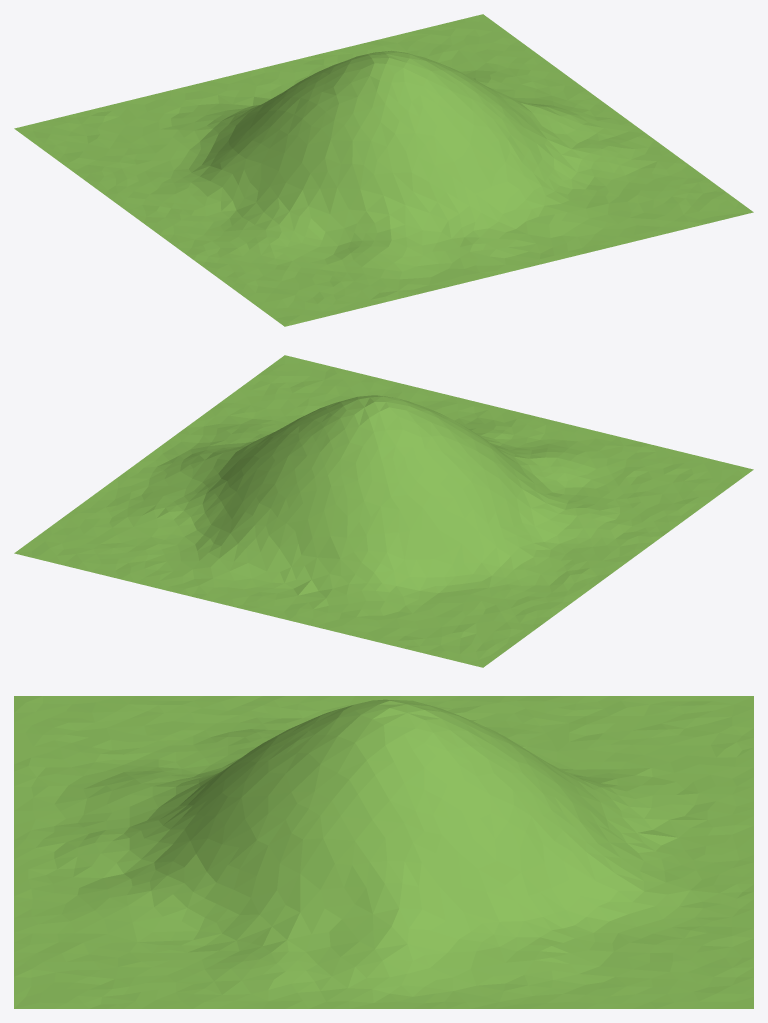
File: MT_Terrain_L_a_09.fbx
The picture shows the model from 3 angles, top to bottom: view 1: azimuth 30°, elevation 25°; view 2: azimuth 150°, elevation 25°; view 3: azimuth 270°, elevation 25°; orthographic projection. The views are drawn at different scales.
Parts seen in each view (by area): view 1: MT_Terrain_L_a_09; view 2: MT_Terrain_L_a_09; view 3: MT_Terrain_L_a_09.
Boxes of the visible parts, bbox=[...] form: MT_Terrain_L_a_09: bbox=[14, 14, 753, 326]; MT_Terrain_L_a_09: bbox=[14, 355, 753, 667]; MT_Terrain_L_a_09: bbox=[14, 696, 753, 1008].
Size of the model in its own units: 10000 by 2235 by 10000.
